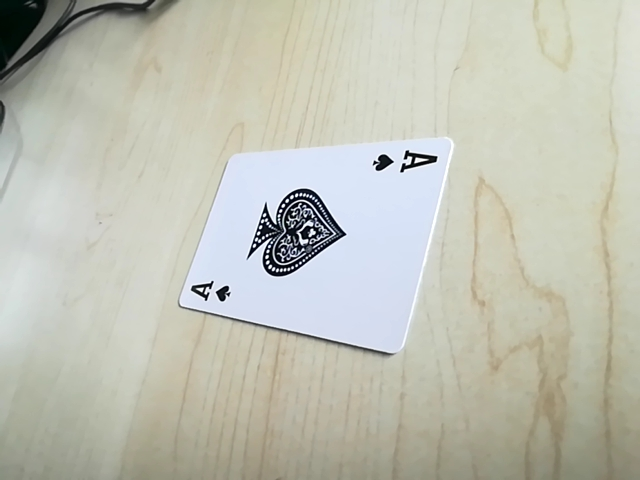ht a: (368, 144, 441, 179), (180, 277, 238, 308)
